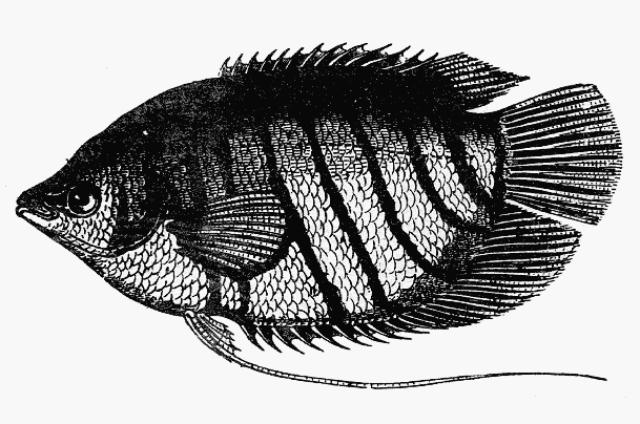Mulut: (0, 171, 72, 264)
Sirip Anal: (234, 199, 594, 357)
Sirip Dada: (151, 177, 313, 289)
Sirip Ekor: (474, 73, 634, 242)
Sirip Perut: (172, 299, 630, 419)
Sirip Punggung: (202, 33, 534, 116)
